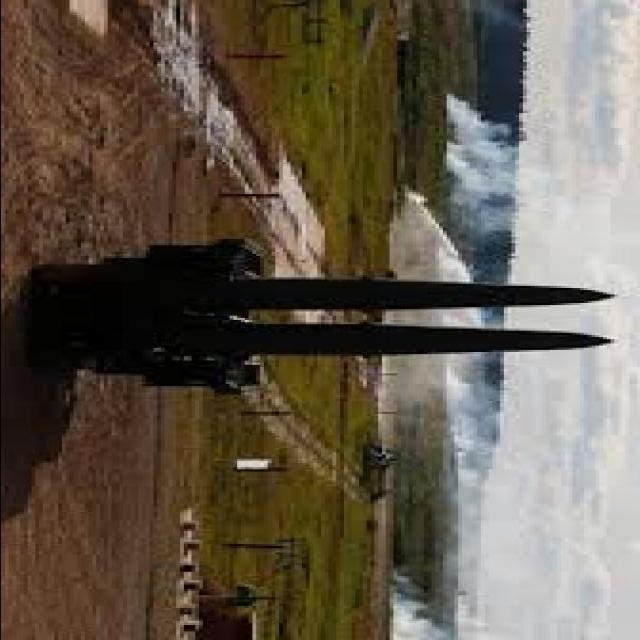missile: (216, 272, 616, 313), (213, 323, 617, 360)
